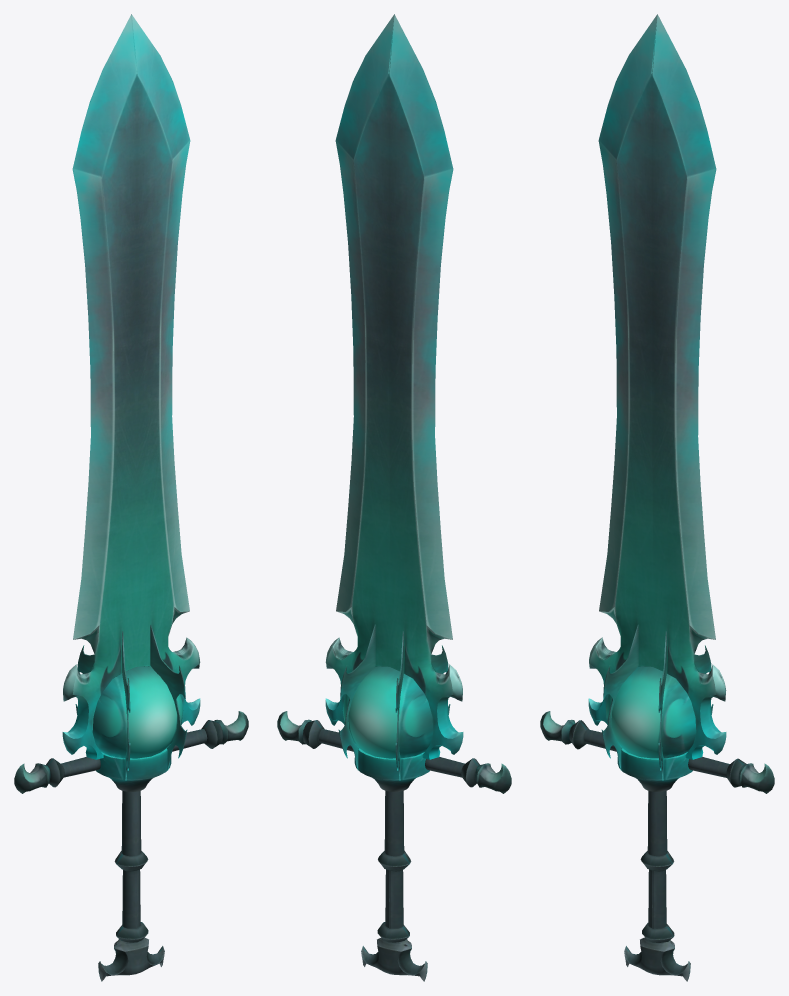
File: sm_sword_07.gltf
The picture shows the model from 3 angles, left to right: view 1: azimuth 30°, elevation 25°; view 2: azimuth 150°, elevation 25°; view 3: azimuth 330°, elevation 25°; orthographic projection.
Visible parts, largest first — view 1: sm_sword_07; view 2: sm_sword_07; view 3: sm_sword_07.
Part boxes in pixels (left/top/right/bottom): sm_sword_07: left=14, top=14, right=248, bottom=981; sm_sword_07: left=277, top=14, right=511, bottom=981; sm_sword_07: left=540, top=14, right=774, bottom=981.
Size of the model in its own units: 0.3879 by 1.52 by 0.1553.
Materials: 1 (1 with a texture image).
